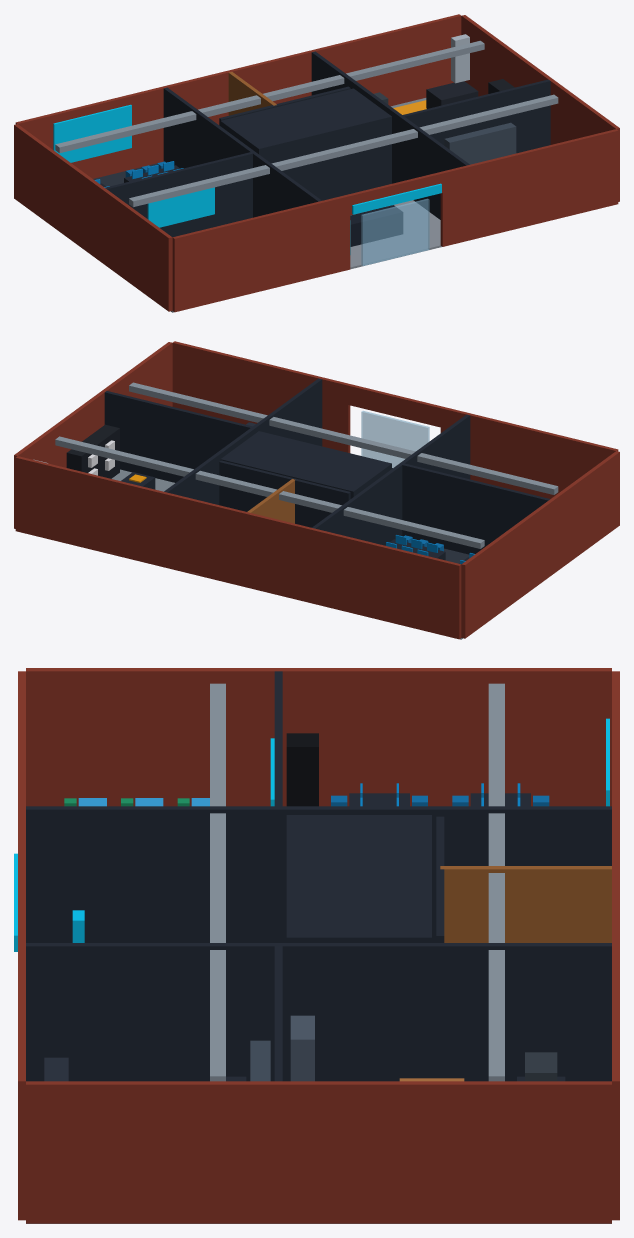
Rendered from istka_mekan_modeli.obj.
The picture shows the model from 3 angles, top to bottom: view 1: azimuth 30°, elevation 25°; view 2: azimuth 150°, elevation 25°; view 3: azimuth 270°, elevation 25°; orthographic projection. The views are drawn at different scales.
Size of the model in its own units: 24.4 by 3.9 by 15.
